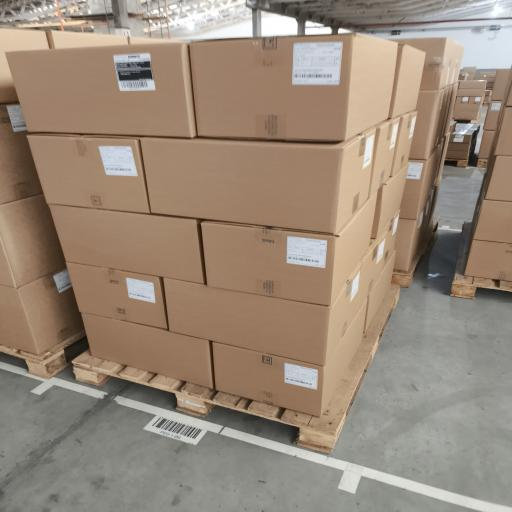pallet: (73, 285, 399, 453), (451, 222, 511, 298), (0, 331, 88, 378), (392, 217, 440, 287), (452, 115, 480, 124), (446, 158, 468, 167), (477, 159, 487, 168)
